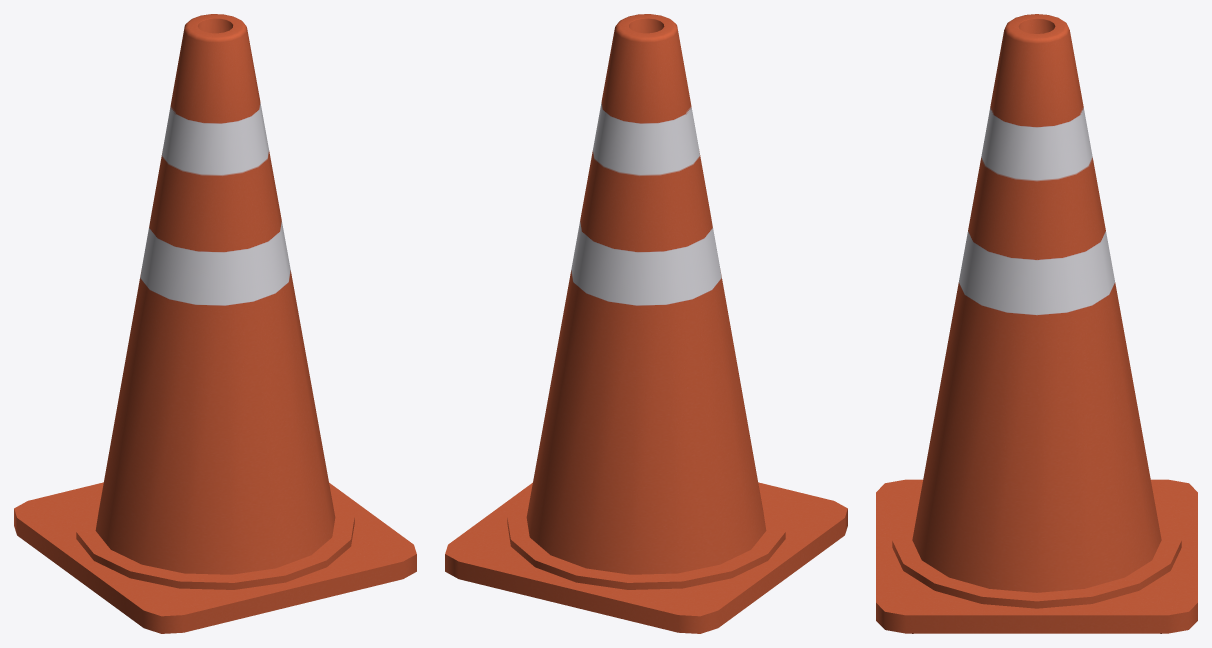
Rendered from SM05_Safety_SafetyCone_01_L.fbx.
3 renders of one model, left to right at view 1: azimuth 30°, elevation 25°; view 2: azimuth 150°, elevation 25°; view 3: azimuth 270°, elevation 25°, orthographic. The views are drawn at different scales.
Parts seen in each view (by area): view 1: SM05_Safety_SafetyCone_01_L; view 2: SM05_Safety_SafetyCone_01_L; view 3: SM05_Safety_SafetyCone_01_L.
Boxes of the visible parts, bbox=[...] form: SM05_Safety_SafetyCone_01_L: bbox=[14, 14, 416, 633]; SM05_Safety_SafetyCone_01_L: bbox=[445, 14, 847, 633]; SM05_Safety_SafetyCone_01_L: bbox=[876, 14, 1197, 633].
Bounding box in the file's own units: 0.4 × 0.75 × 0.4.
